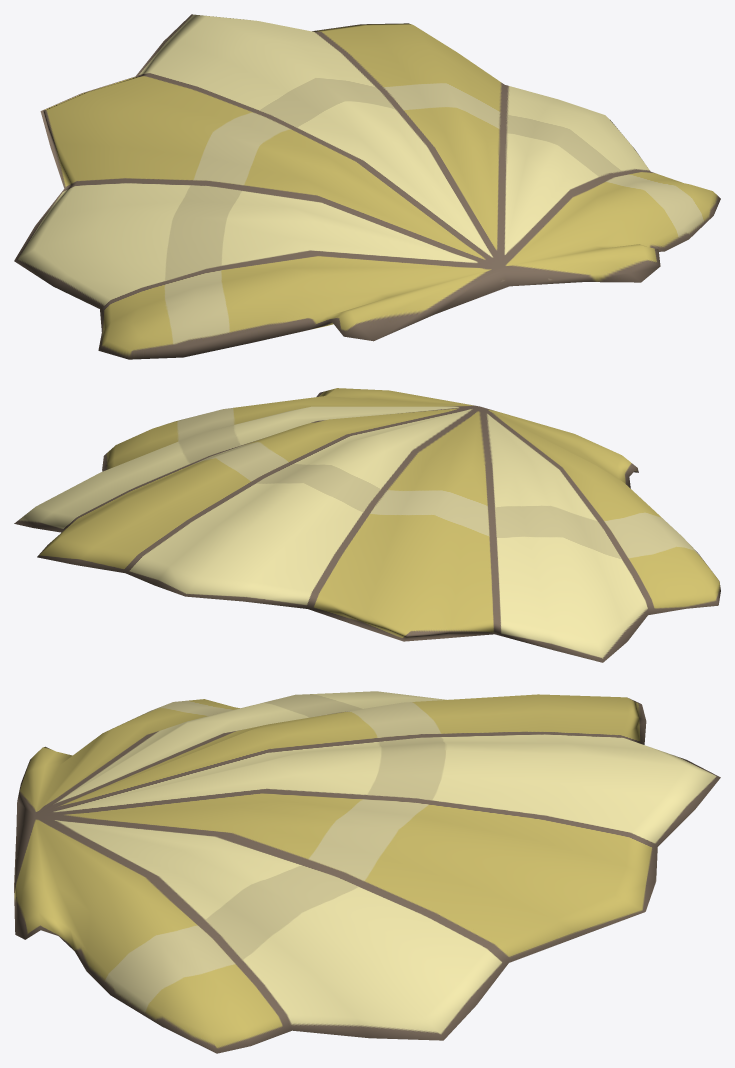
The model's file is Sea_Shell_1.fbx.
3 renders of one model, top to bottom at view 1: azimuth 30°, elevation 25°; view 2: azimuth 150°, elevation 25°; view 3: azimuth 270°, elevation 25°, orthographic. The views are drawn at different scales.
Parts seen in each view (by area): view 1: SeaShell; view 2: SeaShell; view 3: SeaShell.
Boxes of the visible parts, x1,y1,x2,y2 form: SeaShell: [14, 14, 720, 359]; SeaShell: [14, 388, 720, 662]; SeaShell: [14, 691, 720, 1053].
Bounding box in the file's own units: 34.43 × 6.52 × 30.02.
Materials: 1 (1 with a texture image).
